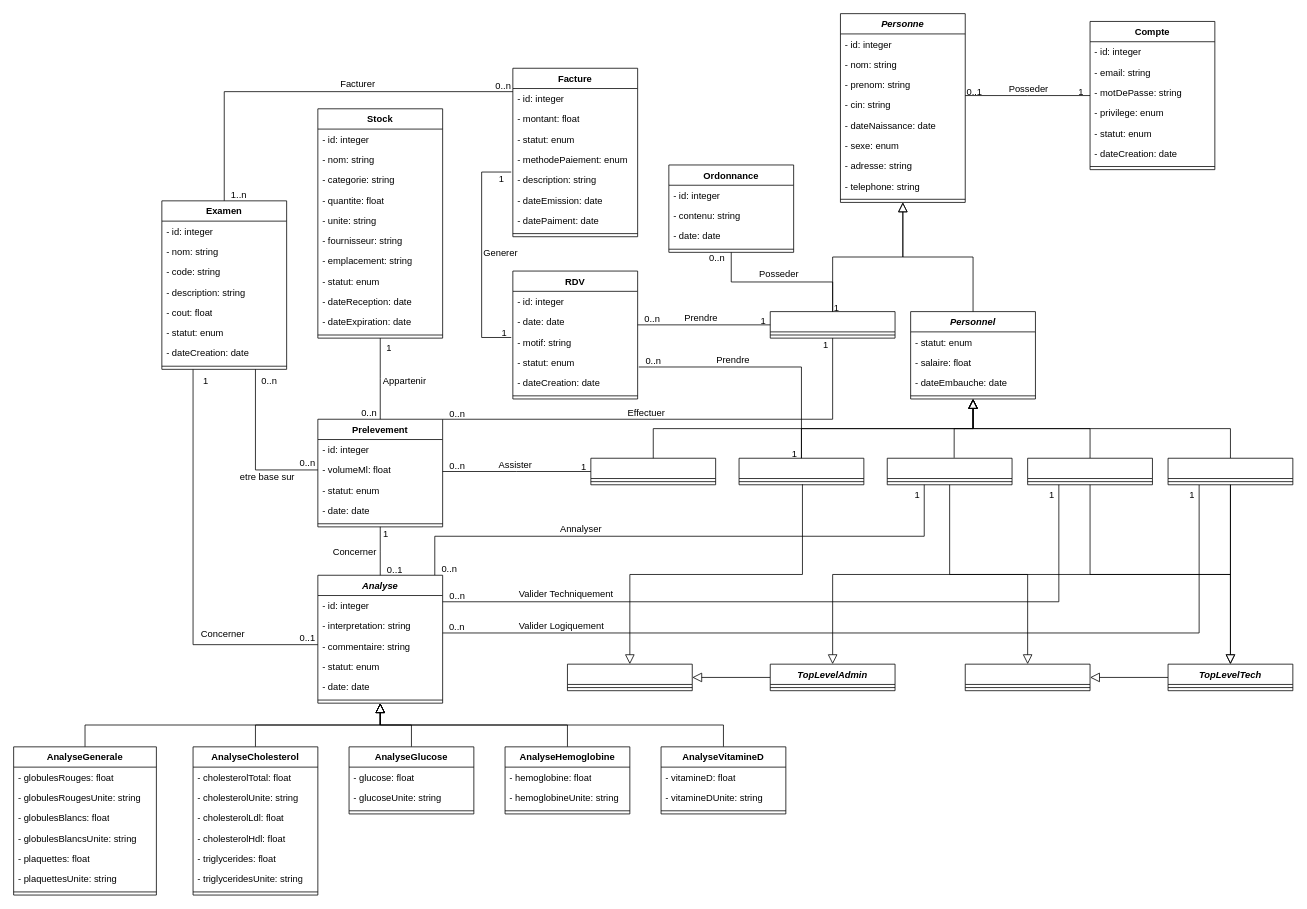
The diagram is 1307 pixels wide and 909 high, and some of its shapes have lost their labels. The shapes that lost their labels are listed below. From the top down, each one's centre as x and y in pixels, then its label:
At point (832, 324): "Patient".
At point (653, 471): "Infirmier".
At point (801, 471): "Secretaire".
At point (949, 471): "Technicien".
At point (1089, 471): "ChefTechnicien".
At point (1230, 471): "MedecinBiologiste".
At point (629, 677): "LowLevelAdmin".
At point (1027, 677): "LowLevelTech".
